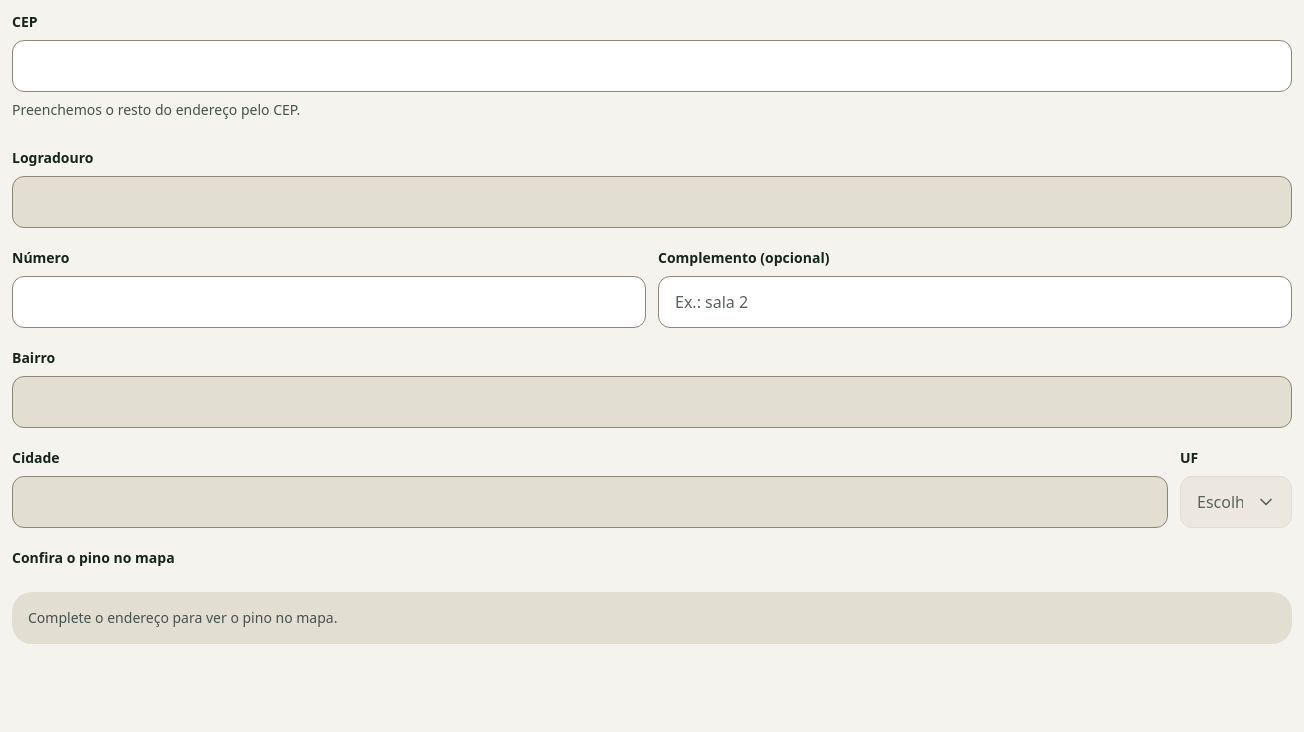
Test: AddressFields › SIGN-18: um erro de rede na busca do CEP também libera os campos
Type "04015012" into the field labelled "CEP" at (652, 66), box [12,40,1292,92]
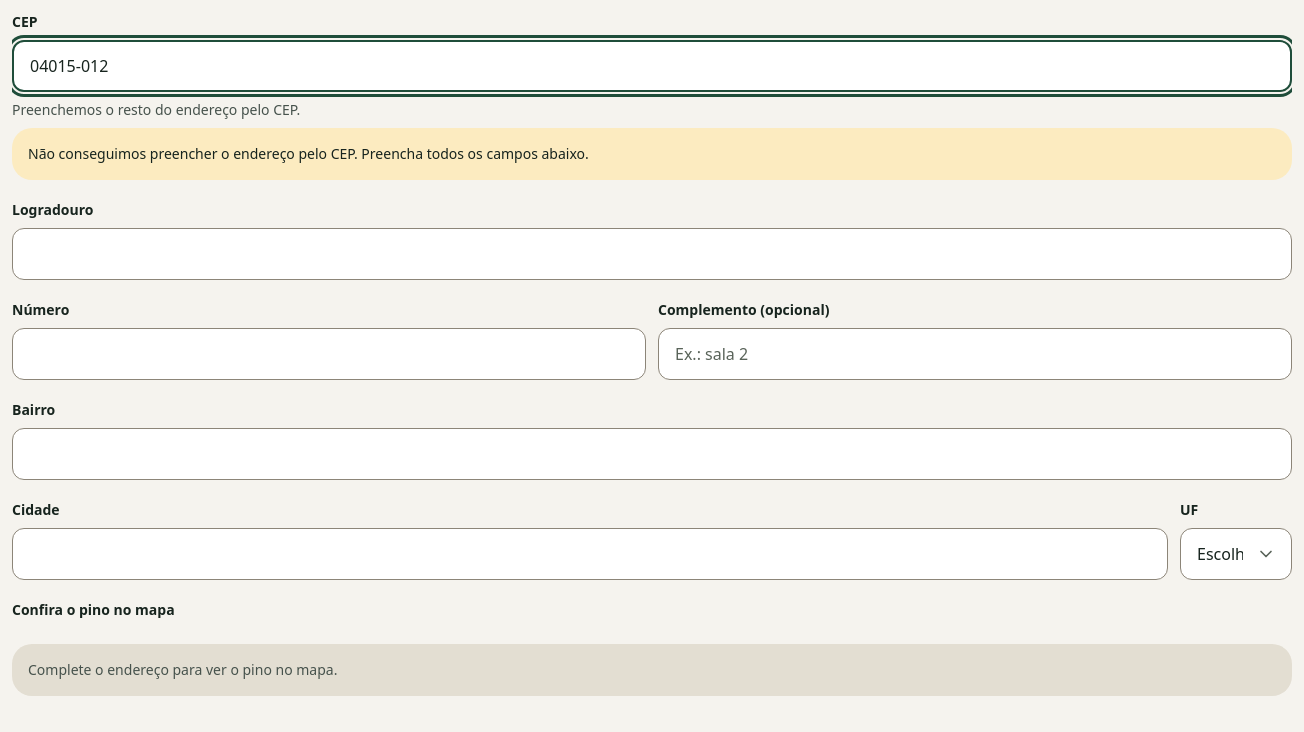
expect the text "Não conseguimos preencher o endereço pelo CEP. Preencha todos os campos abaixo." is shown: met, box [12,128,1292,180]
